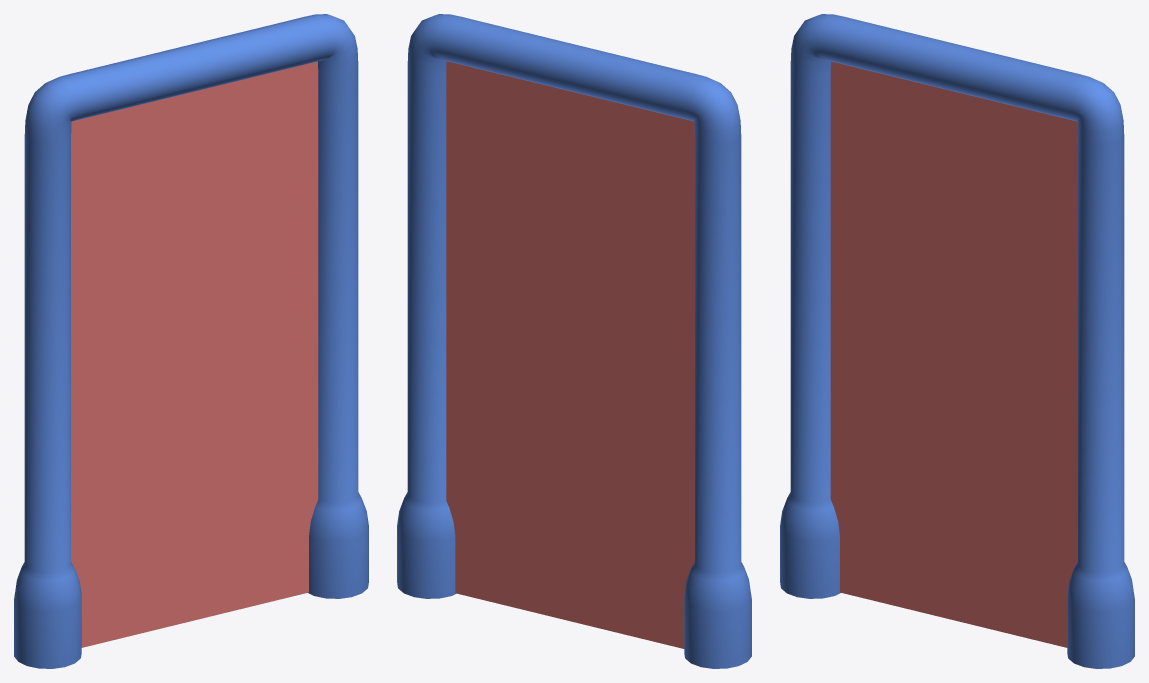
File: Doors_Blue_2.fbx
3 renders of one model, left to right at view 1: azimuth 30°, elevation 25°; view 2: azimuth 150°, elevation 25°; view 3: azimuth 330°, elevation 25°, orthographic.
Visible parts, largest first — view 1: Plane 1, Doors Framework; view 2: Plane 2, Doors Framework; view 3: Plane 1, Doors Framework.
Boxes of the visible parts, box(x1,y1,x2,y2) form: Plane 1: box(71, 61, 318, 647); Doors Framework: box(14, 14, 368, 668); Plane 2: box(446, 61, 694, 648); Doors Framework: box(397, 14, 751, 668); Plane 1: box(830, 61, 1077, 647); Doors Framework: box(780, 14, 1134, 668).
Size of the model in its own units: 135 by 213 by 23.01.
2 materials, 2 textured.
